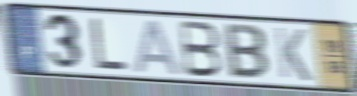3: (43, 11, 87, 73)
A: (133, 17, 185, 77)
B: (223, 22, 270, 82), (179, 19, 224, 80)
K: (272, 25, 314, 84)
L: (88, 16, 131, 71)
